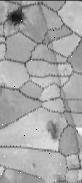good_void: (7, 2, 26, 26), (44, 117, 62, 142), (29, 160, 38, 171)
